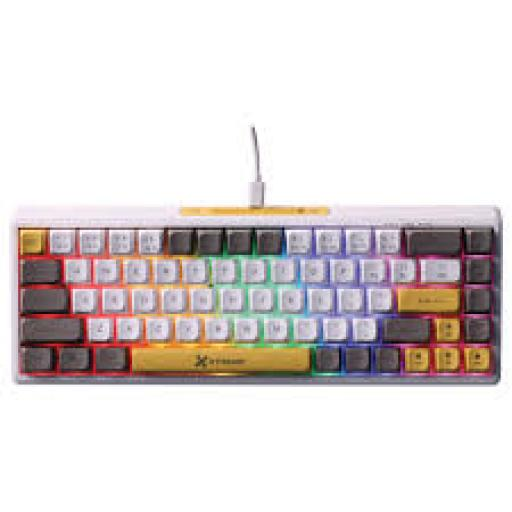keyboard: (16, 207, 501, 382)
